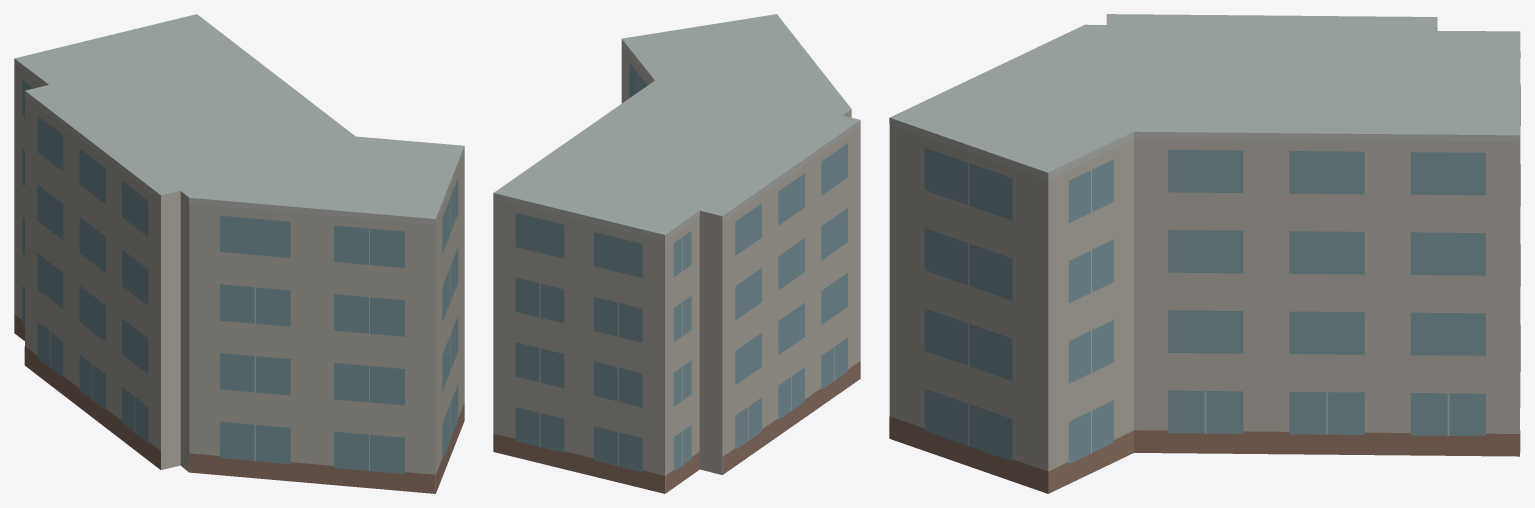
File: survey-upis-32985296.glb
The picture shows the model from 3 angles, left to right: view 1: azimuth 30°, elevation 25°; view 2: azimuth 150°, elevation 25°; view 3: azimuth 270°, elevation 25°; orthographic projection. The views are drawn at different scales.
Visible parts, largest first — view 1: survey-upis-32985296.tmp; view 2: survey-upis-32985296.tmp; view 3: survey-upis-32985296.tmp.
Boxes of the visible parts, x1,y1,x2,y2 form: survey-upis-32985296.tmp: (14, 14, 464, 493); survey-upis-32985296.tmp: (493, 14, 860, 493); survey-upis-32985296.tmp: (889, 14, 1520, 493).
Size of the model in its own units: 12.17 by 11.46 by 20.42.
